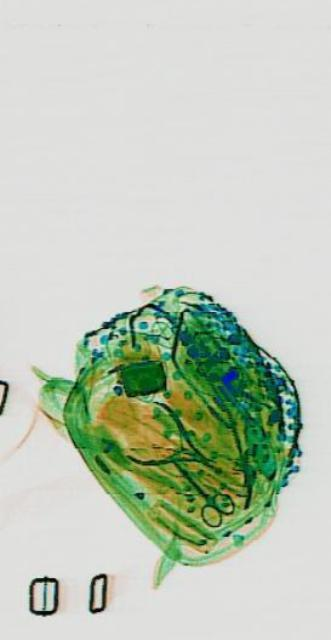Pliers: (123, 386, 218, 498)
Scissors: (164, 438, 233, 540)
